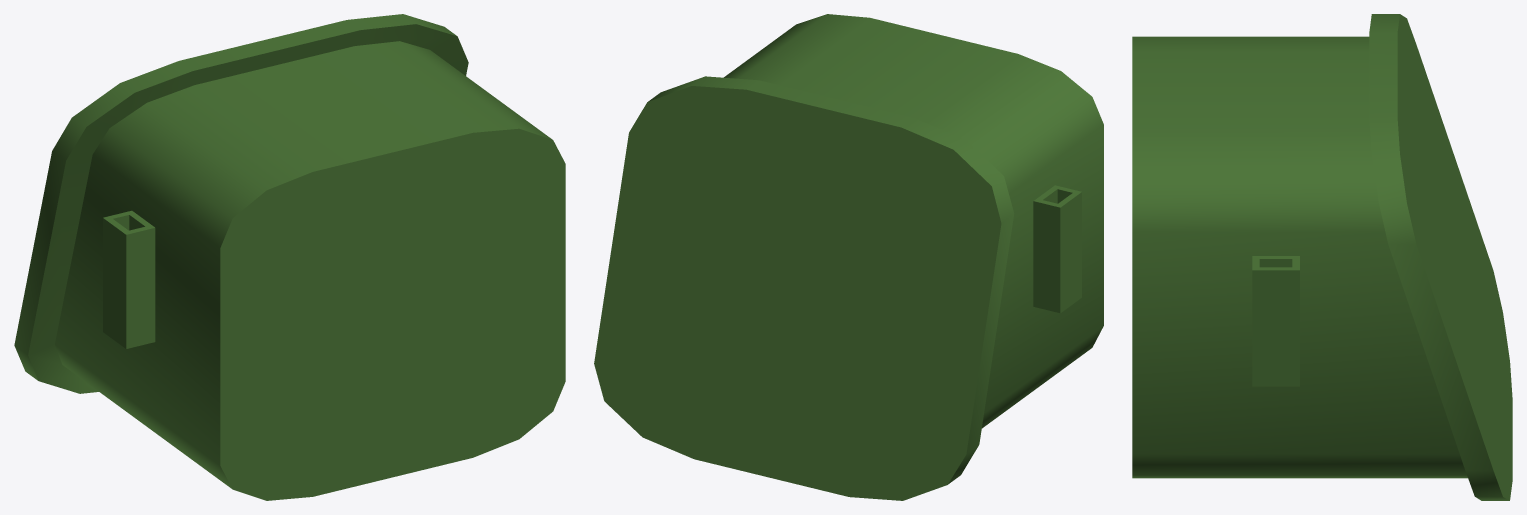
File: P_Trash02.fbx
The picture shows the model from 3 angles, left to right: view 1: azimuth 30°, elevation 25°; view 2: azimuth 150°, elevation 25°; view 3: azimuth 270°, elevation 25°; orthographic projection. The views are drawn at different scales.
Parts seen in each view (by area): view 1: trashcontainer01; view 2: trashcontainer01; view 3: trashcontainer01.
Part boxes in pixels (bbox=[...]): trashcontainer01: bbox=[14, 14, 565, 500]; trashcontainer01: bbox=[594, 14, 1103, 500]; trashcontainer01: bbox=[1132, 14, 1512, 500].
Bounding box in the file's own units: 150 × 124 × 117.
